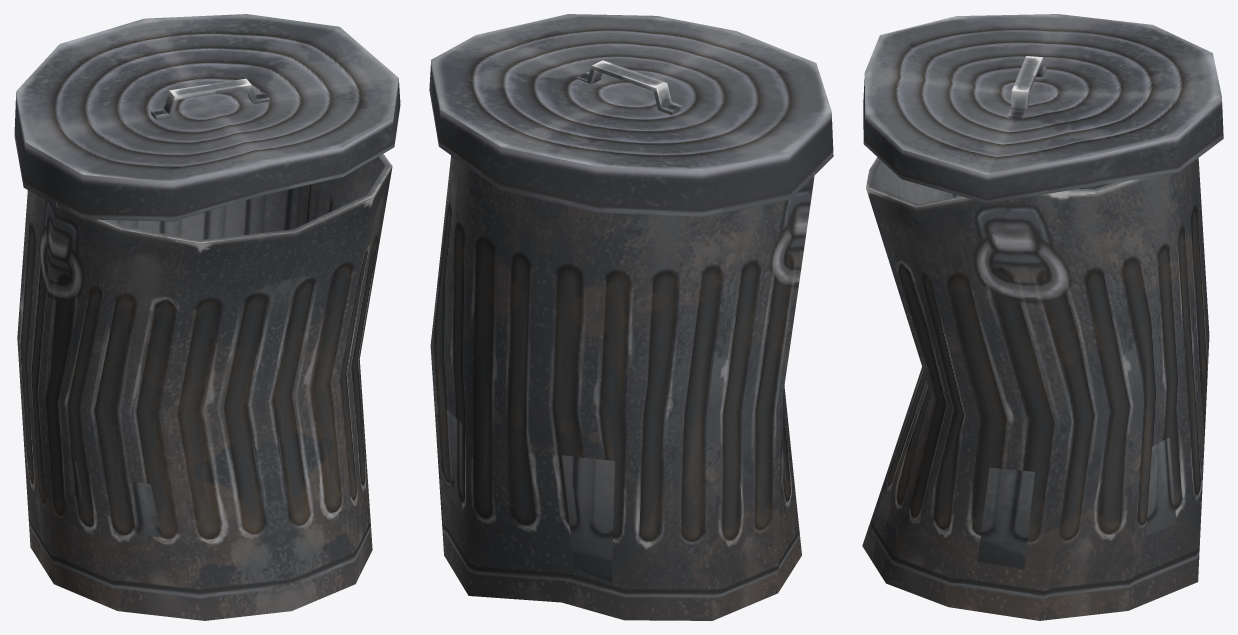
File: trashCan02_B.FBX
The picture shows the model from 3 angles, left to right: view 1: azimuth 30°, elevation 25°; view 2: azimuth 150°, elevation 25°; view 3: azimuth 270°, elevation 25°; orthographic projection. The views are drawn at different scales.
Parts seen in each view (by area): view 1: trashCan02_B, trashCan02_B_lid; view 2: trashCan02_B, trashCan02_B_lid; view 3: trashCan02_B, trashCan02_B_lid.
Part boxes in pixels (box(x1,y1,x2,y2)): trashCan02_B: box(17, 154, 392, 620); trashCan02_B_lid: box(14, 14, 400, 221); trashCan02_B: box(430, 155, 814, 620); trashCan02_B_lid: box(429, 14, 833, 217); trashCan02_B: box(862, 157, 1209, 620); trashCan02_B_lid: box(863, 14, 1223, 203).
Bounding box in the file's own units: 55.15 × 71.49 × 49.61.
